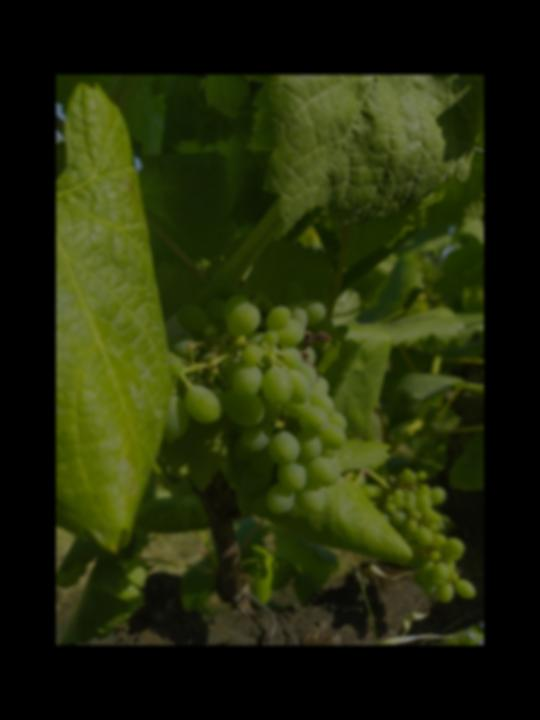grape: (165, 293, 346, 516), (362, 472, 480, 604)
